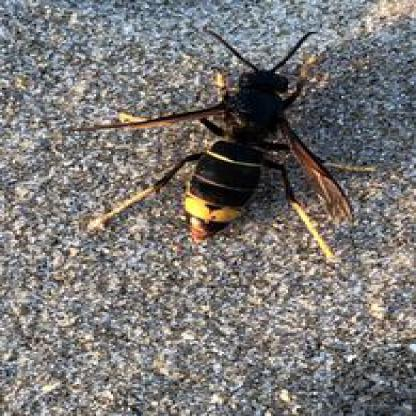Asian Hornet: (155, 19, 333, 274)
